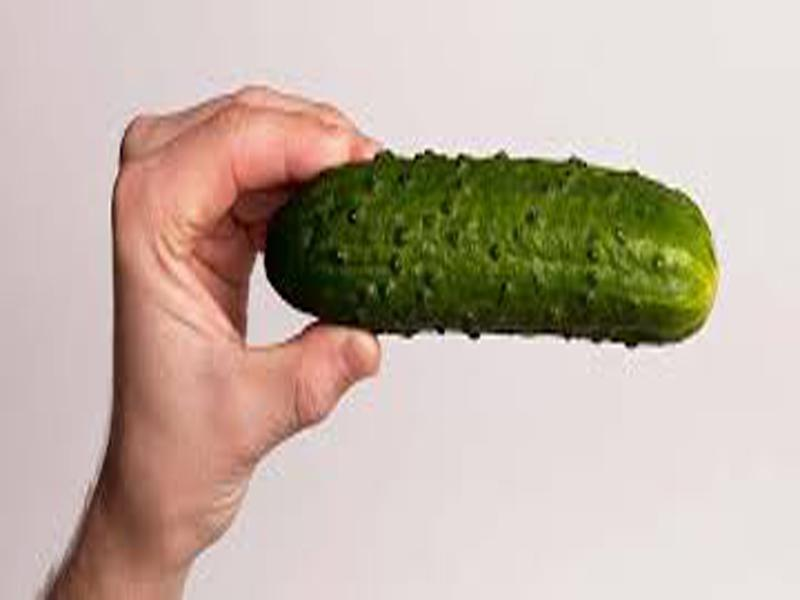Cucumber: (263, 154, 715, 330)
